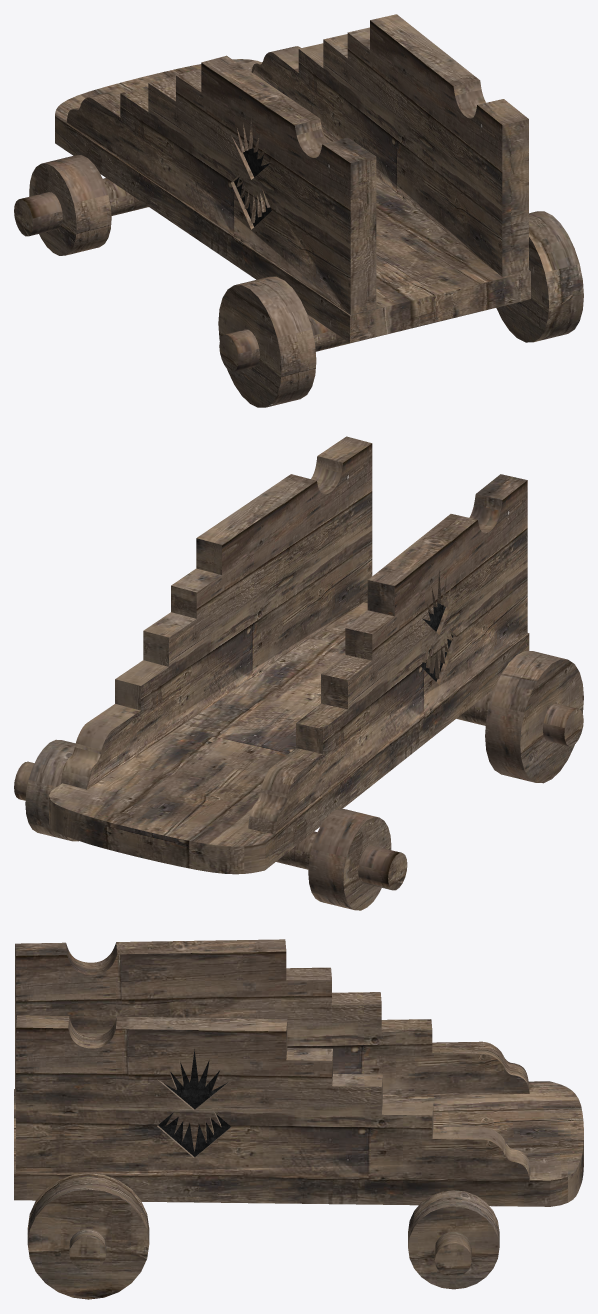
The model's file is CannonBase.fbx.
3 renders of one model, top to bottom at view 1: azimuth 30°, elevation 25°; view 2: azimuth 150°, elevation 25°; view 3: azimuth 270°, elevation 25°, orthographic. The views are drawn at different scales.
Parts seen in each view (by area): view 1: MountLeft, UoSLogo003; view 2: MountLeft; view 3: MountLeft, UoSLogo.
Part boxes in pixels (x1,y1,x2,y2): MountLeft: (14, 14, 583, 407); UoSLogo003: (234, 143, 271, 226); MountLeft: (14, 436, 583, 910); MountLeft: (14, 939, 583, 1299); UoSLogo: (158, 1049, 230, 1156).
Size of the model in its own units: 42.55 by 27.76 by 58.91.
2 materials, 2 textured.
